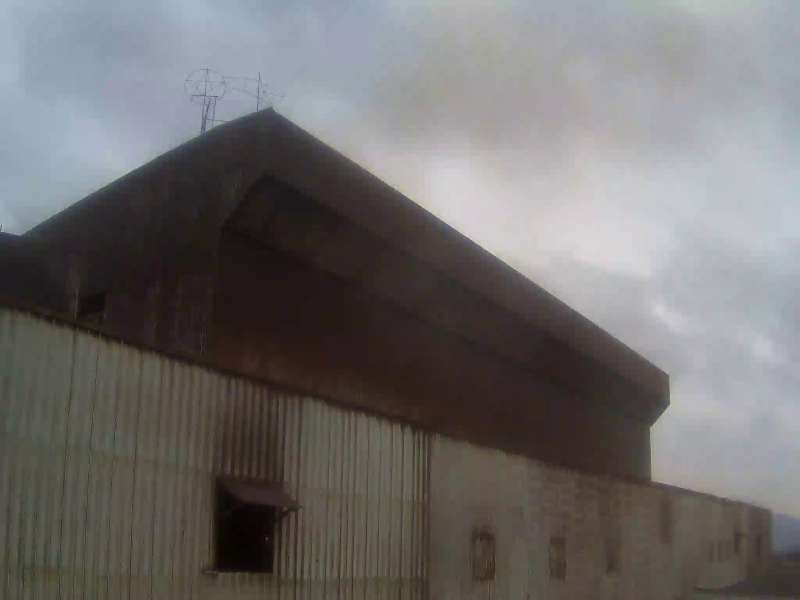bom: (6, 4, 275, 181), (664, 270, 800, 462)
ruim: (356, 9, 659, 270)
